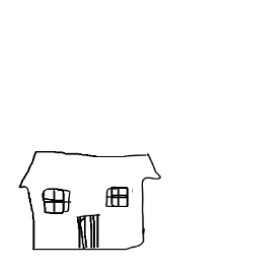bottom_placed_house: (2, 1, 260, 260)
closed_window: (37, 181, 73, 216), (102, 180, 133, 211)
door: (73, 212, 103, 255)
single_line_roof: (15, 144, 167, 189)
small_house: (5, 5, 260, 260)
wall: (23, 177, 147, 253)
